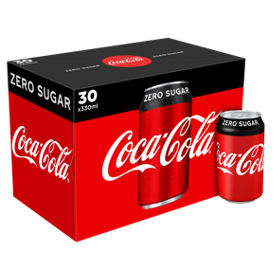can: (212, 108, 271, 204)
